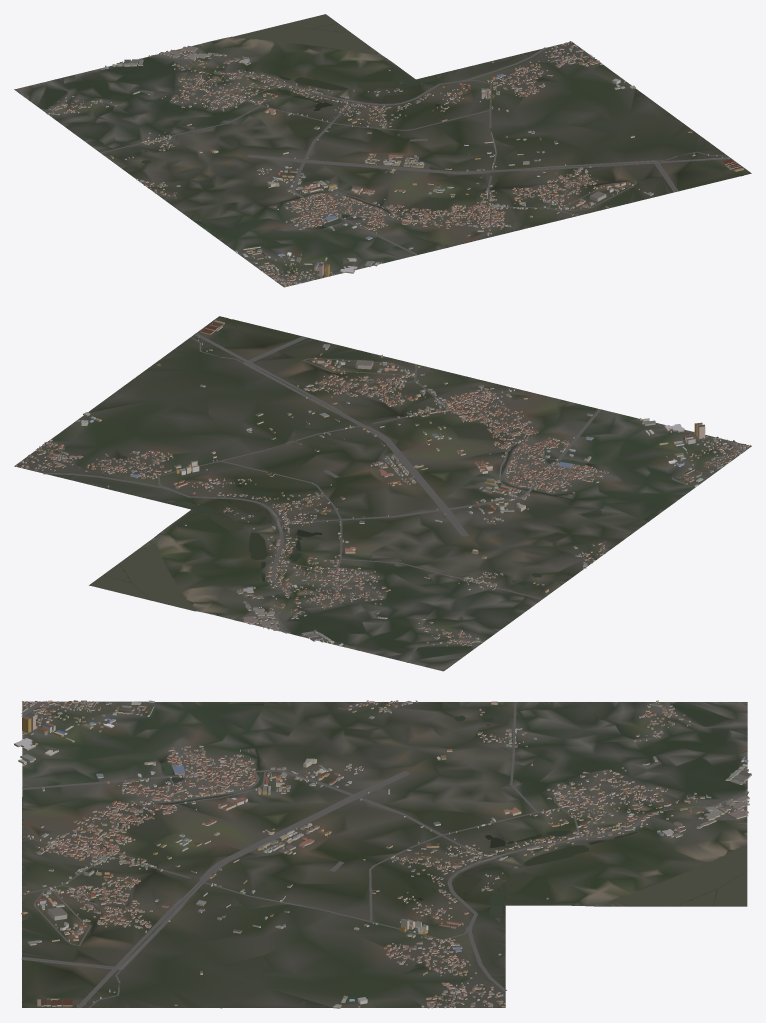
3 renders of one model, top to bottom at view 1: azimuth 30°, elevation 25°; view 2: azimuth 150°, elevation 25°; view 3: azimuth 270°, elevation 25°, orthographic. The views are drawn at different scales.
Parts seen in each view (by area): view 1: ground, buildings, roads, water; view 2: ground, buildings, roads, water; view 3: ground, buildings, roads, water.
Part boxes in pixels (bbox=[...]): ground: bbox=[14, 23, 751, 287]; buildings: bbox=[46, 41, 743, 287]; roads: bbox=[100, 46, 731, 285]; water: bbox=[133, 14, 740, 226]; ground: bbox=[14, 316, 751, 671]; buildings: bbox=[15, 320, 751, 646]; roads: bbox=[34, 333, 748, 633]; water: bbox=[89, 319, 586, 610]; ground: bbox=[22, 701, 747, 1008]; buildings: bbox=[14, 700, 751, 1008]; roads: bbox=[21, 701, 748, 1008]; water: bbox=[23, 715, 747, 1006].
Size of the model in its own units: 4221 by 96.9 by 4279.
